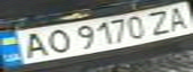0: (124, 12, 151, 39)
1: (93, 19, 115, 46)
7: (109, 16, 130, 43)
9: (72, 22, 96, 50)
A: (12, 29, 54, 60), (160, 3, 193, 33)
O: (39, 27, 72, 55)
Z: (142, 8, 175, 36)
